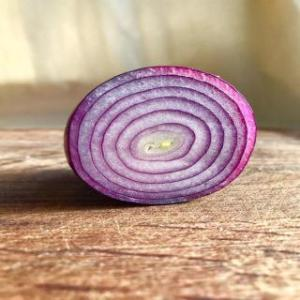onion: (61, 62, 252, 209)
